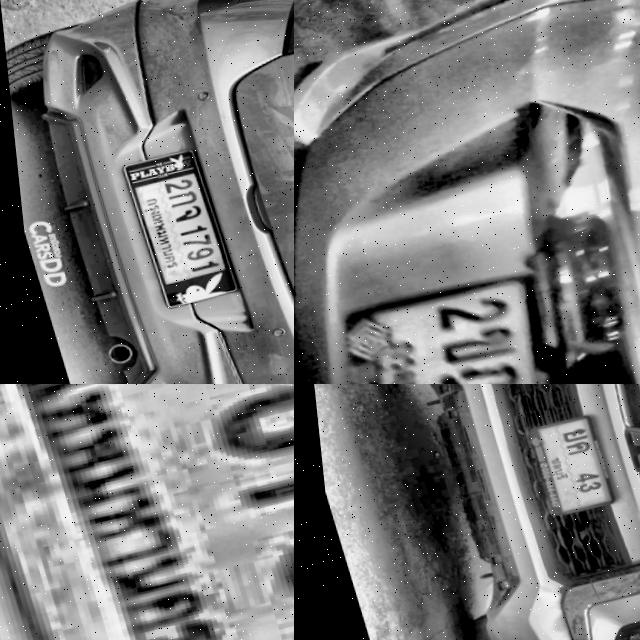license-plate: (0, 384, 294, 640), (113, 143, 230, 314), (365, 282, 524, 384), (520, 416, 612, 520)
